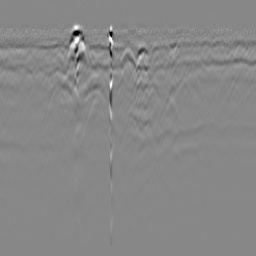cavity: (118, 45, 136, 71)
